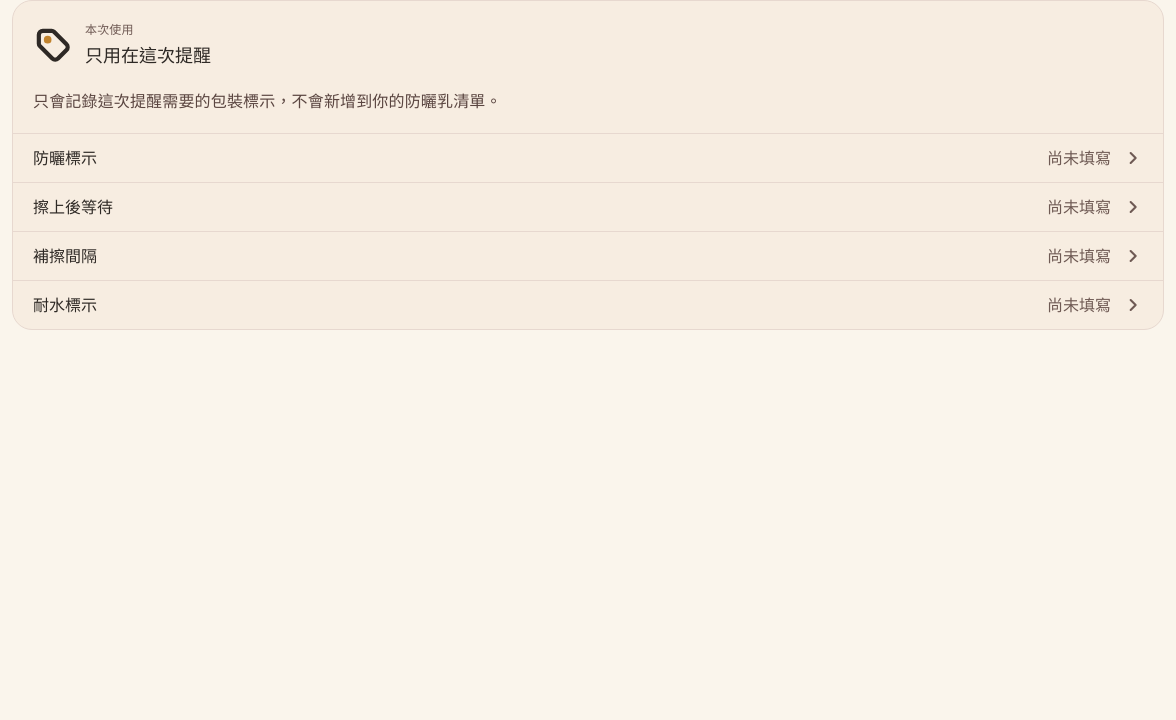
Scenario: 耐水拆成兩層（裁決丙） › 第一層仍然分得出「沒寫」與「寫了不耐水」
The image size is (1176, 720).
Click the button with class "label-question__row" showing "耐水標示 尚未填寫" at (65, 305), box [13, 281, 1163, 329]
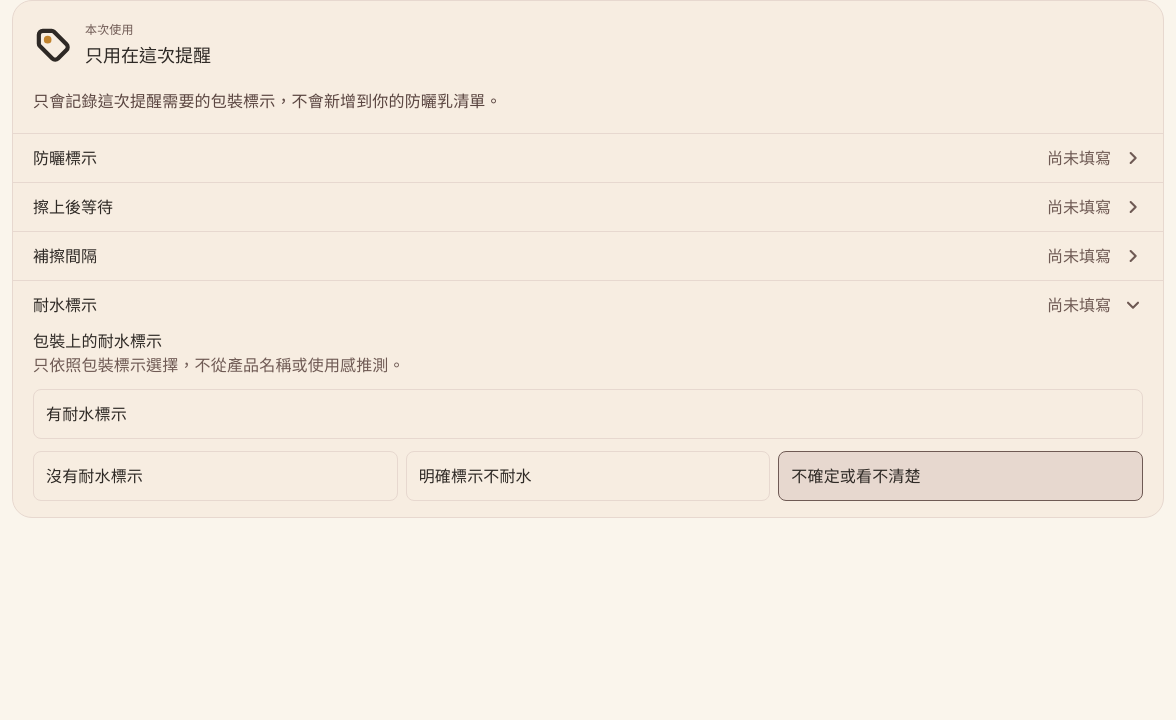
Result: the element that starts with "包裝上的耐水標示" shows "沒有耐水標示" at [46, 466, 143, 486]
Result: the element that starts with "包裝上的耐水標示" shows "明確標示不耐水" at [419, 466, 532, 486]
